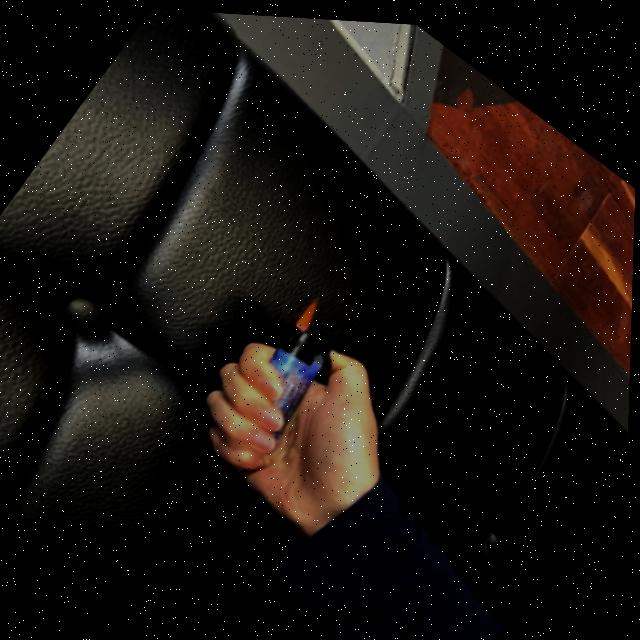Fire: (294, 290, 329, 331)
